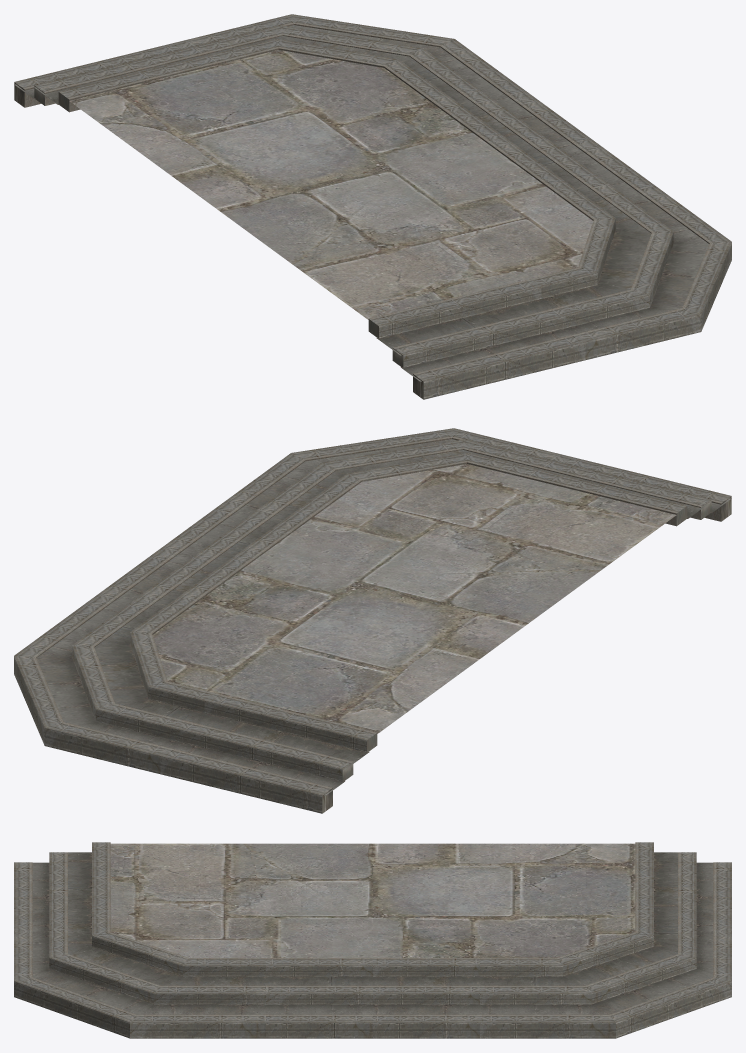
File: bg_lut_lucastle_castlestair01_sm_phs.FBX
3 views of the same model, one above another, from view 1: azimuth 30°, elevation 25°; view 2: azimuth 150°, elevation 25°; view 3: azimuth 270°, elevation 25° (orthographic). The views are drawn at different scales.
Visible parts, largest first — view 1: bg_lut_lucastle_castlestair01_sm_phs; view 2: bg_lut_lucastle_castlestair01_sm_phs; view 3: bg_lut_lucastle_castlestair01_sm_phs.
Boxes of the visible parts, x1,y1,x2,y2 form: bg_lut_lucastle_castlestair01_sm_phs: (14,14,731,399); bg_lut_lucastle_castlestair01_sm_phs: (14,428,731,813); bg_lut_lucastle_castlestair01_sm_phs: (14,842,731,1038).
Bounding box in the file's own units: 677 × 70.32 × 1276.
